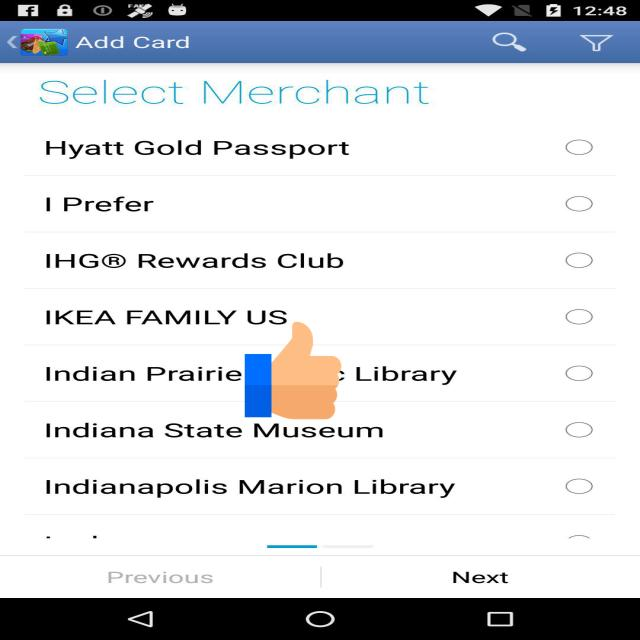privacy zuckering: (245, 319, 341, 422)
